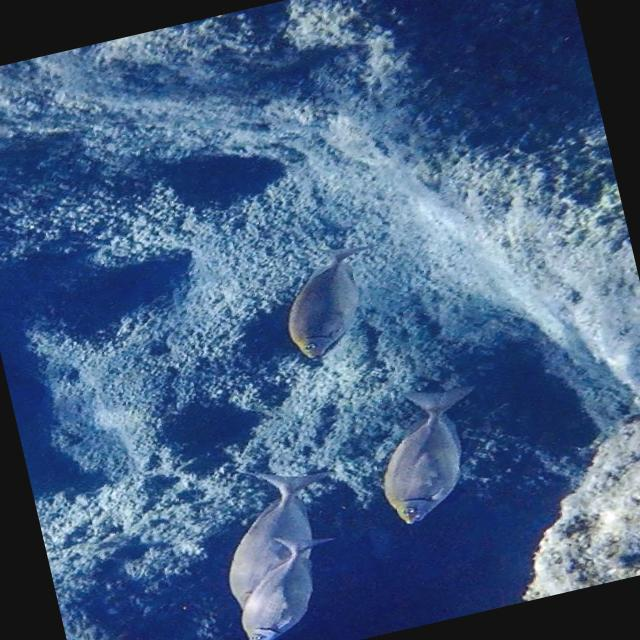Sokar Baligi: (340, 367, 514, 538), (257, 231, 407, 369)
